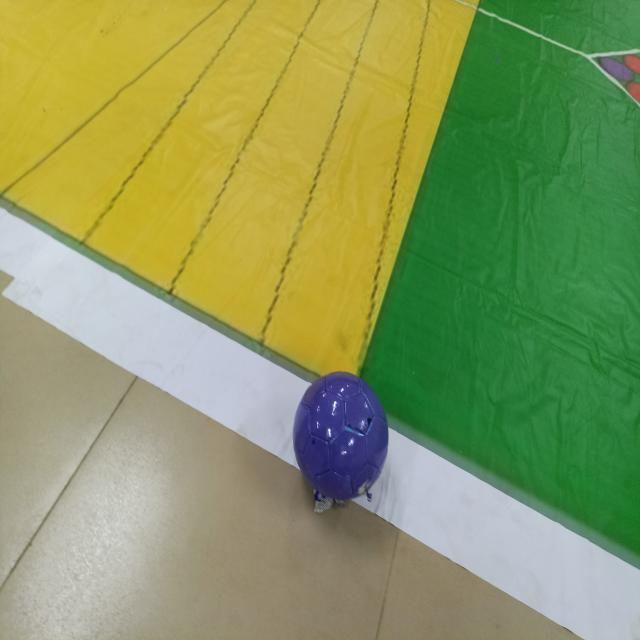purple_ball: (284, 362, 416, 531)
